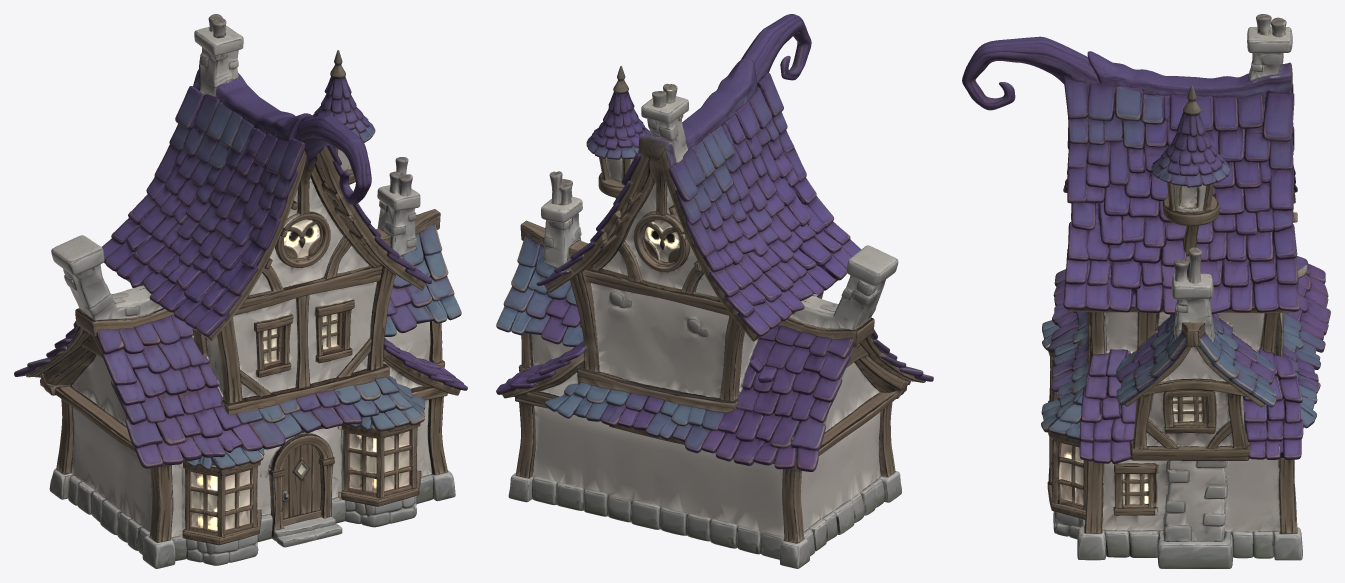
File: SilverPetShop_300k.glb
The picture shows the model from 3 angles, left to right: view 1: azimuth 30°, elevation 25°; view 2: azimuth 150°, elevation 25°; view 3: azimuth 270°, elevation 25°; orthographic projection. The views are drawn at different scales.
Parts seen in each view (by area): view 1: Mesh_0; view 2: Mesh_0; view 3: Mesh_0.
Part boxes in pixels (x1,y1,x2,y2): Mesh_0: (14,14,467,568); Mesh_0: (496,14,933,568); Mesh_0: (962,14,1330,568).
Size of the model in its own units: 1.68 by 1.9 by 1.36.
Materials: 1 (1 with a texture image).
